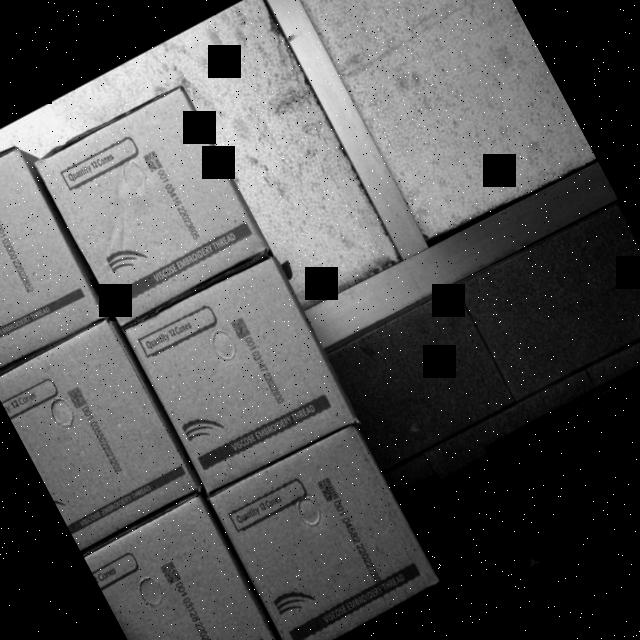box: (124, 254, 361, 497), (36, 86, 262, 320), (212, 422, 444, 640), (0, 314, 200, 550), (82, 494, 286, 640), (0, 141, 106, 379)
